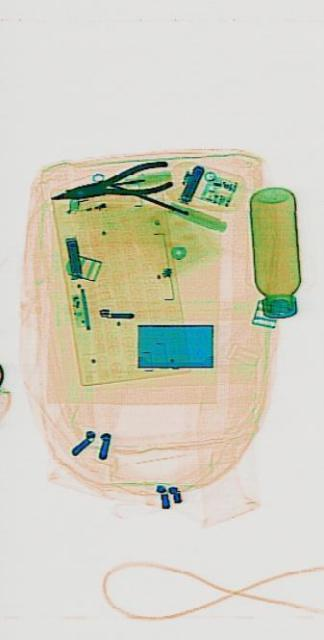Pliers: (48, 153, 170, 214)
